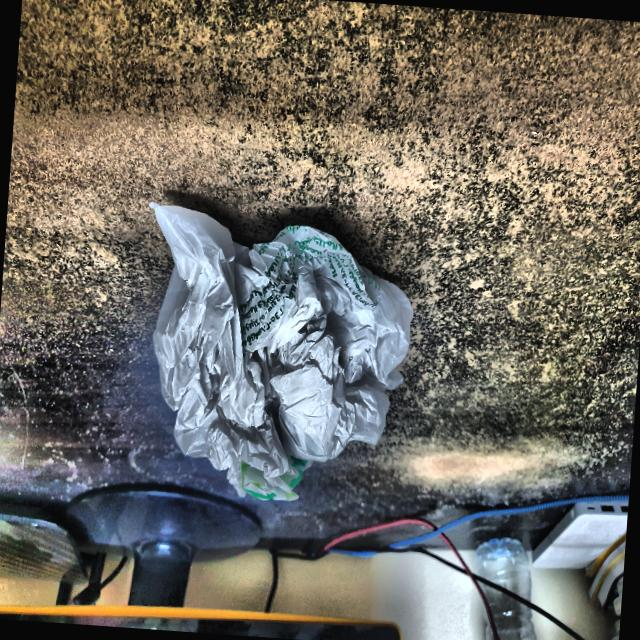plastic bag: (120, 188, 427, 527)
